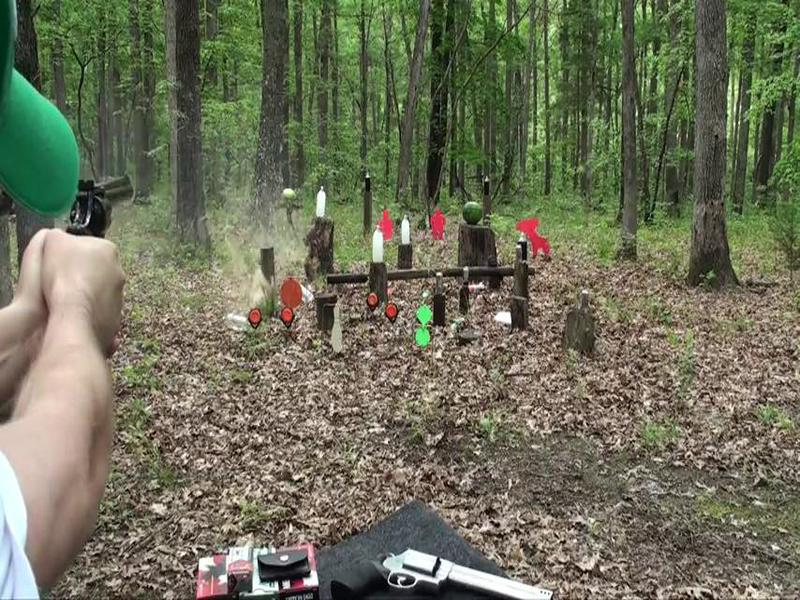Revolver: (56, 158, 146, 270)
